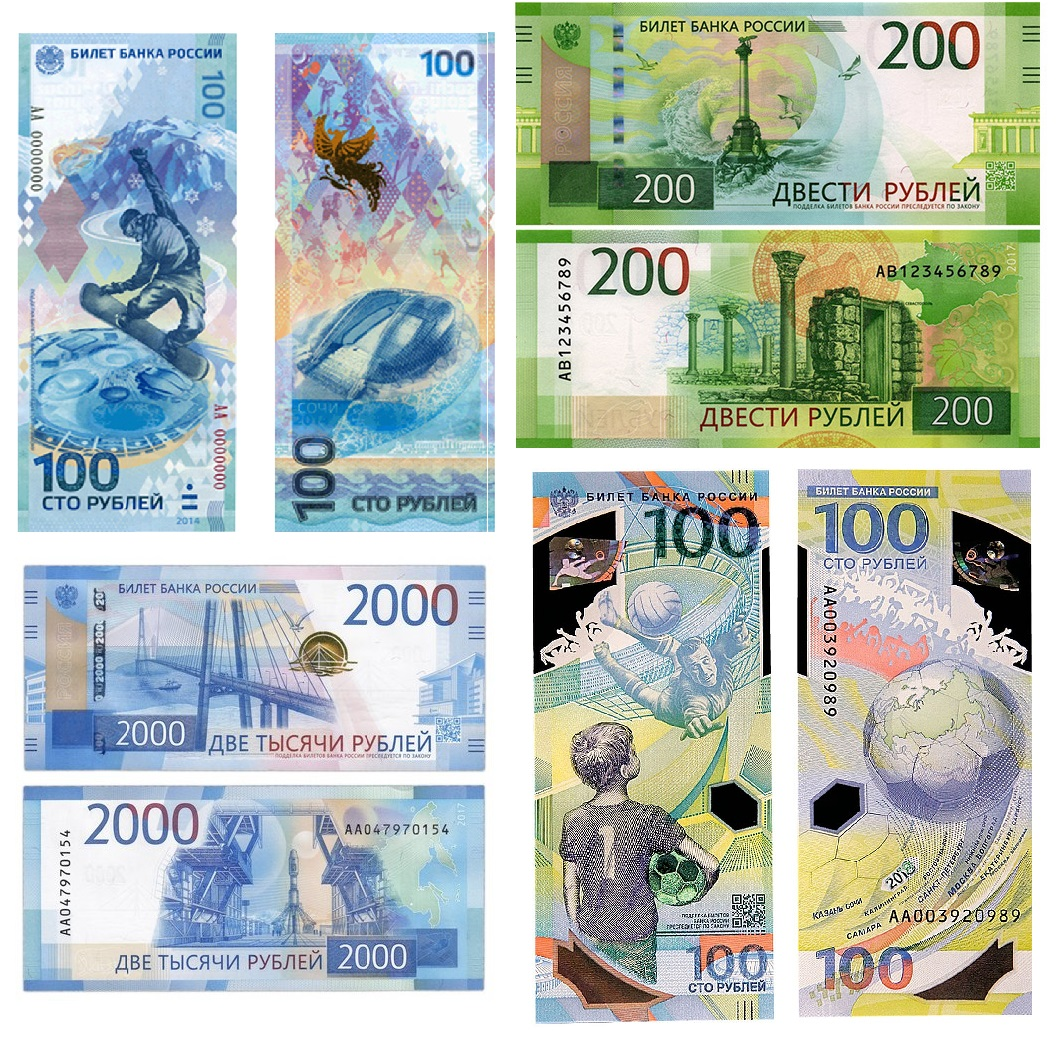cash: (534, 474, 769, 1021), (799, 469, 1030, 1018), (514, 3, 1040, 227), (515, 228, 1040, 447), (275, 34, 494, 532), (19, 32, 234, 533), (22, 785, 485, 993), (23, 564, 484, 770)
